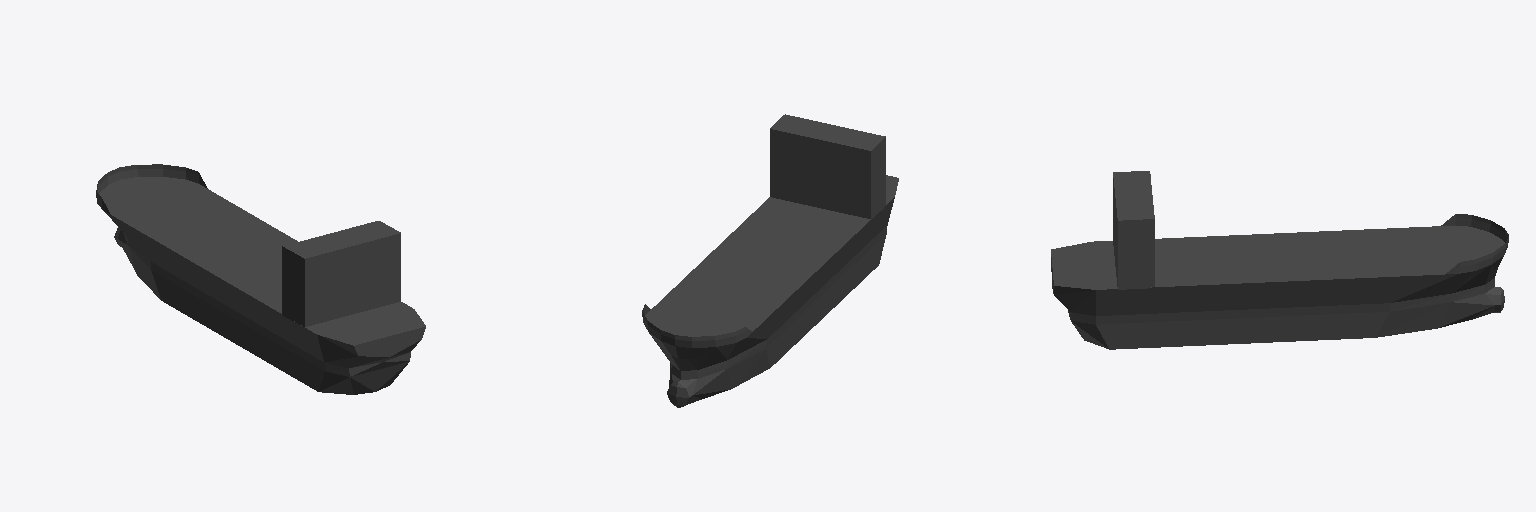
Rendered from barge.obj.
The picture shows the model from 3 angles: view 1: azimuth 30°, elevation 25°; view 2: azimuth 150°, elevation 25°; view 3: azimuth 270°, elevation 25°; orthographic projection.
Parts seen in each view (by area): view 1: mesh1_mesh1-geometry; view 2: mesh1_mesh1-geometry; view 3: mesh1_mesh1-geometry.
Boxes of the visible parts, <box> form: mesh1_mesh1-geometry: <box>96,164,425,394</box>; mesh1_mesh1-geometry: <box>642,114,898,407</box>; mesh1_mesh1-geometry: <box>1051,171,1508,349</box>.
Bounding box in the file's own units: 40 × 38.52 × 120.